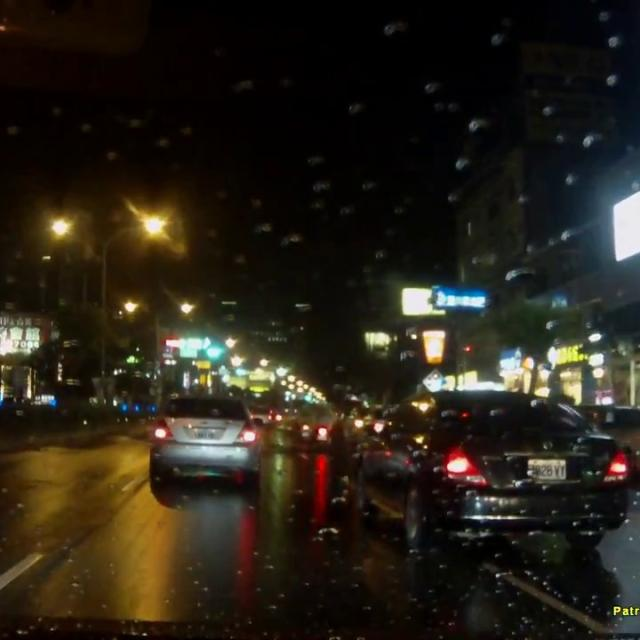Car: (345, 387, 630, 553), (147, 393, 261, 490), (248, 405, 279, 427)
